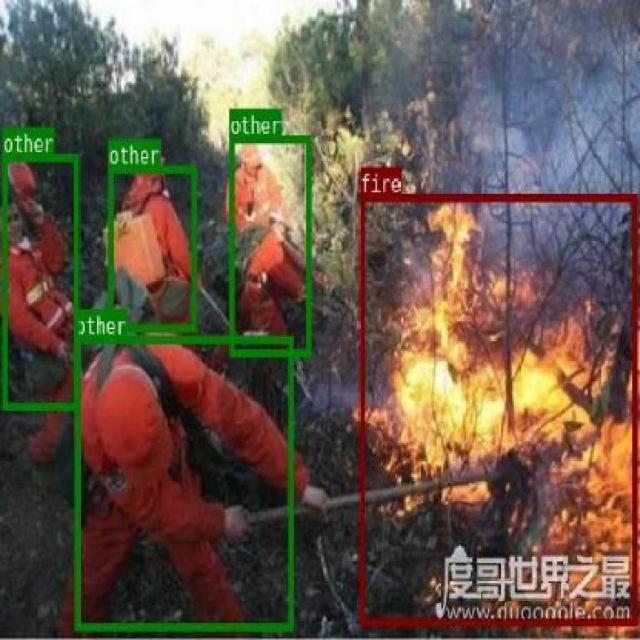Fire: (364, 201, 636, 625)
Smoke: (408, 80, 640, 178)
